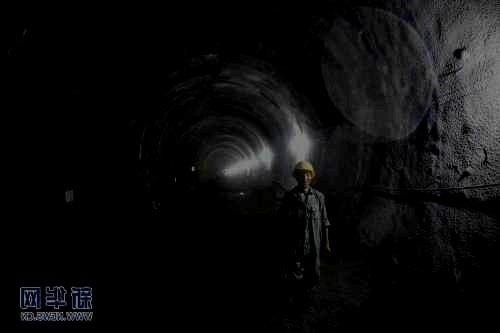helmet: (291, 160, 315, 187)
